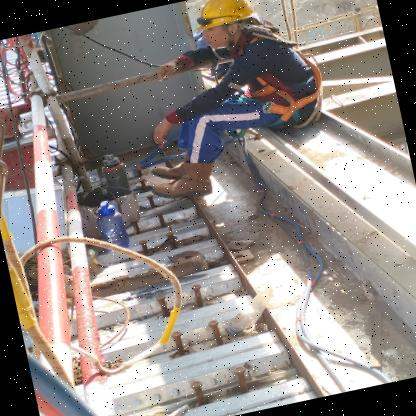bota: (145, 158, 216, 208), (150, 156, 196, 182)
